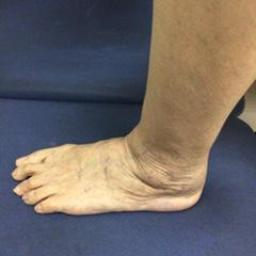Lateral View -Left Foot-: (8, 103, 230, 220)
